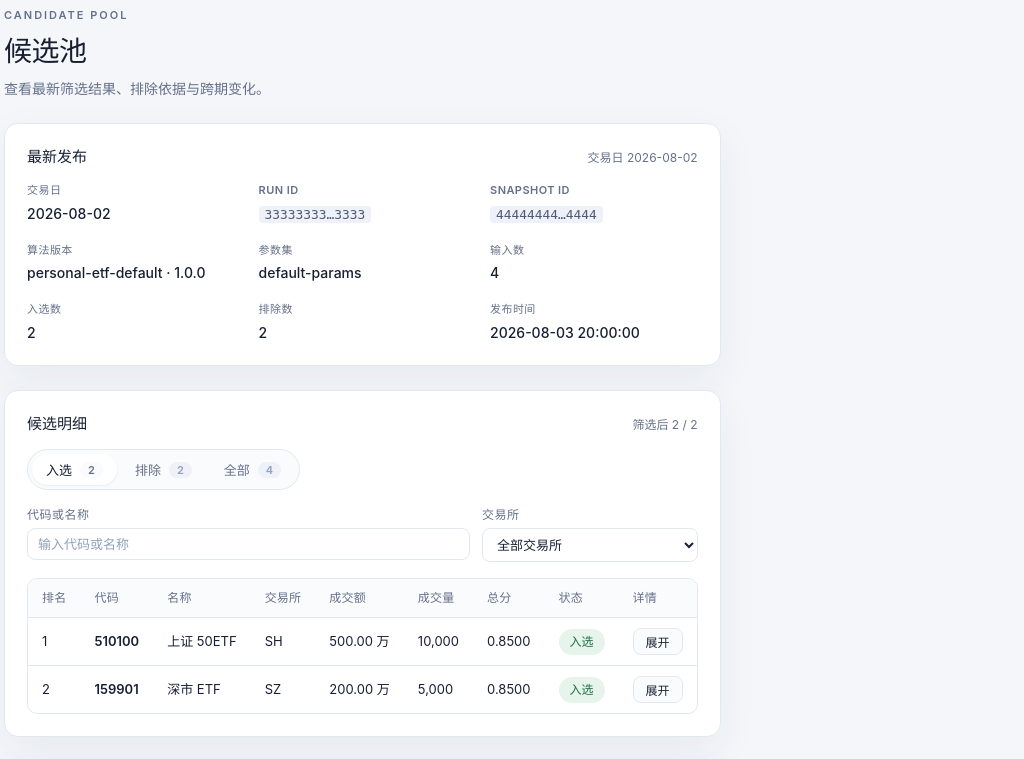
CandidatePoolPage › row expansion › shows rule results and exclusion reasons when an excluded row is expanded
Step 1. Click the tab "排除 2" → coordinates (163, 470), box left=121, top=454, right=206, bottom=485
(page scrolled)
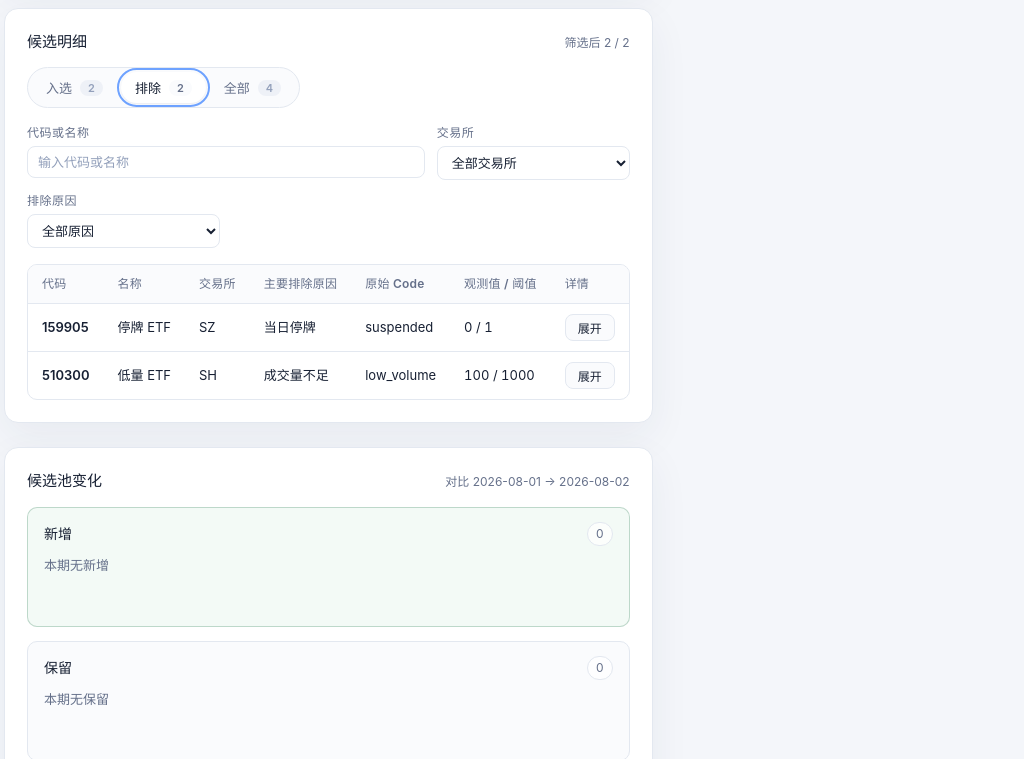
Step 2. Click the button with aria-label "展开 510300 详情" → coordinates (590, 376), box left=565, top=362, right=615, bottom=389
(page scrolled)
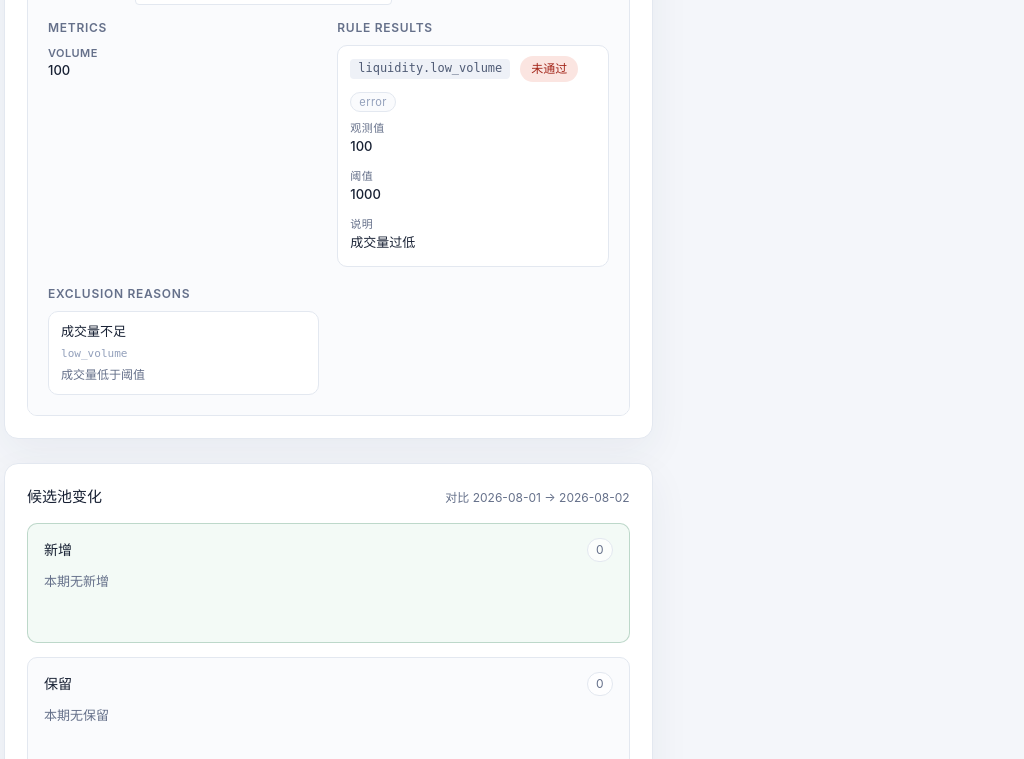
Now the text "liquidity.low_volume" is shown, box left=350, top=59, right=510, bottom=79
Now the text "low_volume" is shown, box left=61, top=347, right=128, bottom=360
Now the text "成交量低于阈值" is shown, box left=61, top=367, right=145, bottom=382
